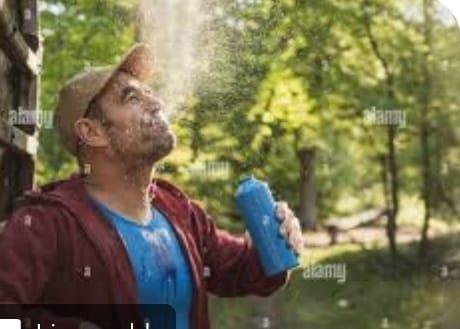Spitting: (59, 37, 206, 172)
